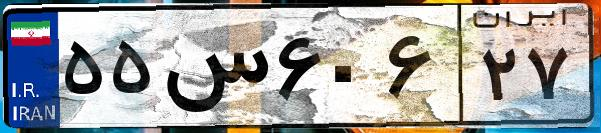0: (330, 28, 385, 110)
2: (475, 38, 525, 113)
5: (57, 26, 110, 100), (110, 28, 158, 98)
6: (270, 28, 330, 110), (385, 28, 445, 110)
7: (525, 38, 570, 115)
س: (158, 20, 270, 120)
